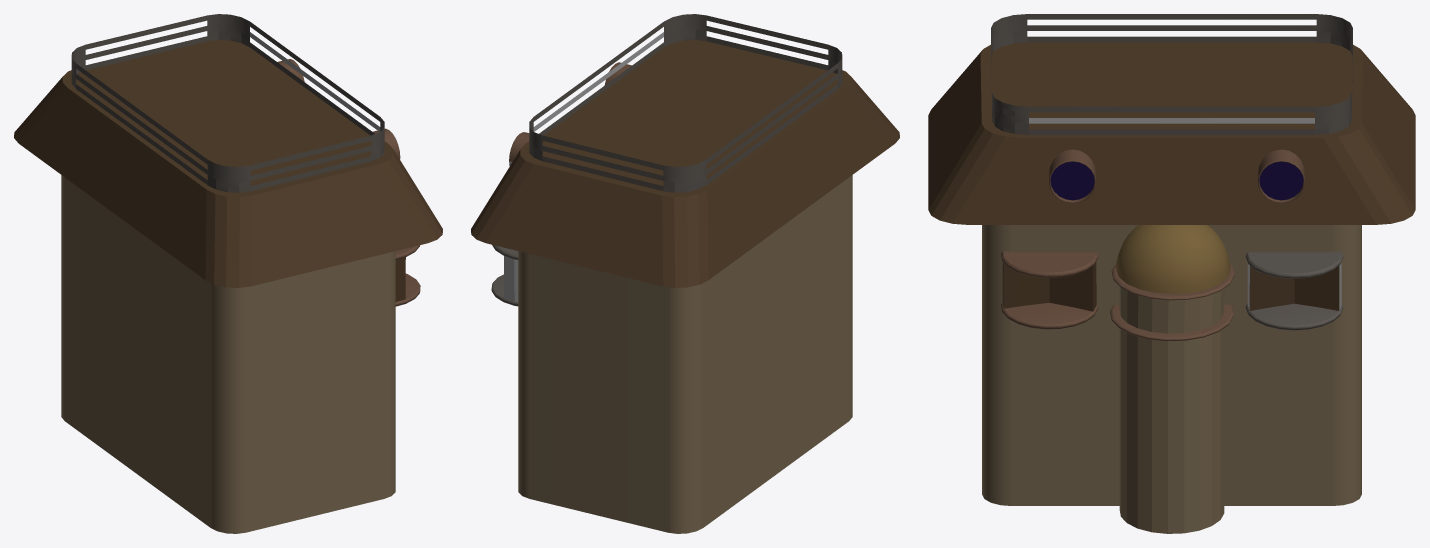
The model's file is SmallHouse.fbx.
3 renders of one model, left to right at view 1: azimuth 30°, elevation 25°; view 2: azimuth 150°, elevation 25°; view 3: azimuth 270°, elevation 25°, orthographic. The views are drawn at different scales.
Visible parts, largest first — view 1: Cube_LOD0; view 2: Cube_LOD0; view 3: Cube_LOD0.
Boxes of the visible parts, x1,y1,x2,y2 form: Cube_LOD0: (14, 14, 442, 533); Cube_LOD0: (471, 14, 899, 533); Cube_LOD0: (928, 14, 1415, 533).
Bounding box in the file's own units: 5.73 × 7.37 × 8.2.
